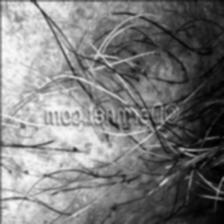Toxin: (128, 54, 144, 82)
